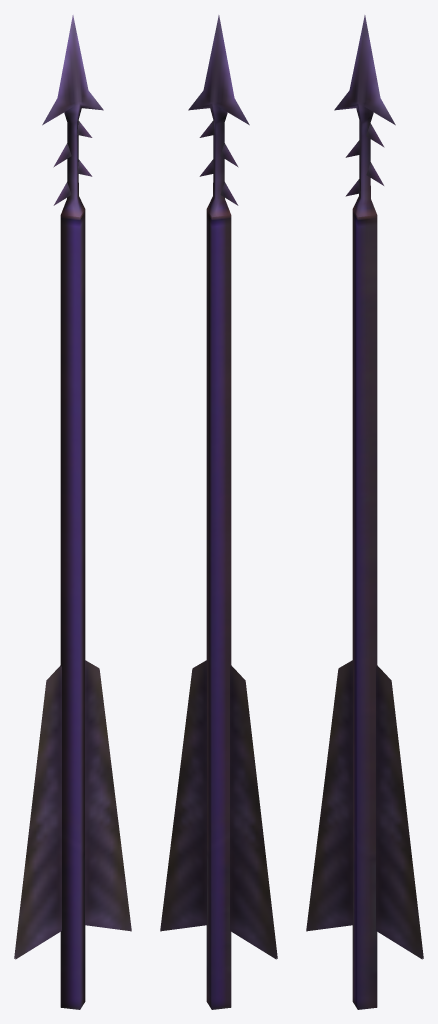
File: Bolt03.FBX
3 renders of one model, left to right at view 1: azimuth 30°, elevation 25°; view 2: azimuth 150°, elevation 25°; view 3: azimuth 330°, elevation 25°, orthographic.
Parts seen in each view (by area): view 1: Bolt03; view 2: Bolt03; view 3: Bolt03.
Part boxes in pixels (x1=…): Bolt03: x1=14, y1=15, x2=131, y2=1009; Bolt03: x1=160, y1=15, x2=277, y2=1009; Bolt03: x1=306, y1=15, x2=423, y2=1009.
Size of the model in its own units: 6.26 by 50.81 by 1.32.
